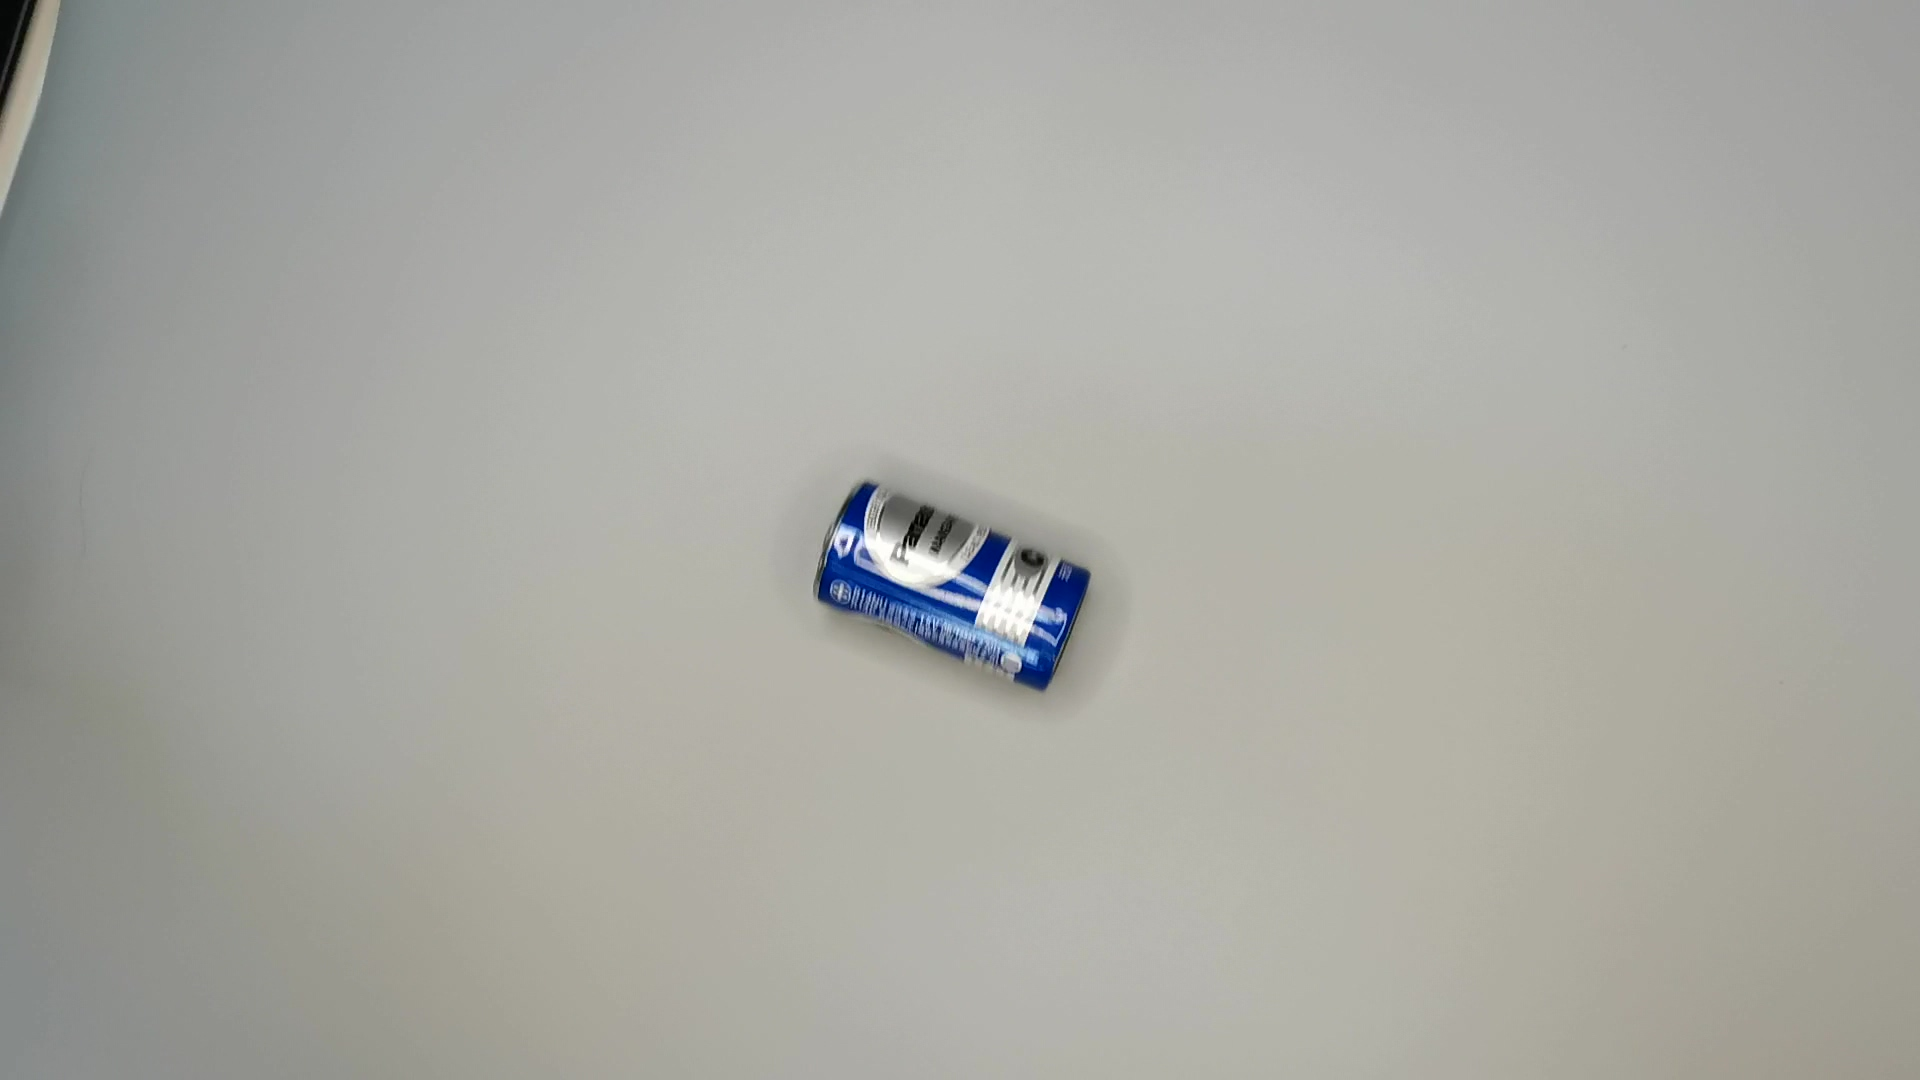battery: (814, 468, 1098, 700)
